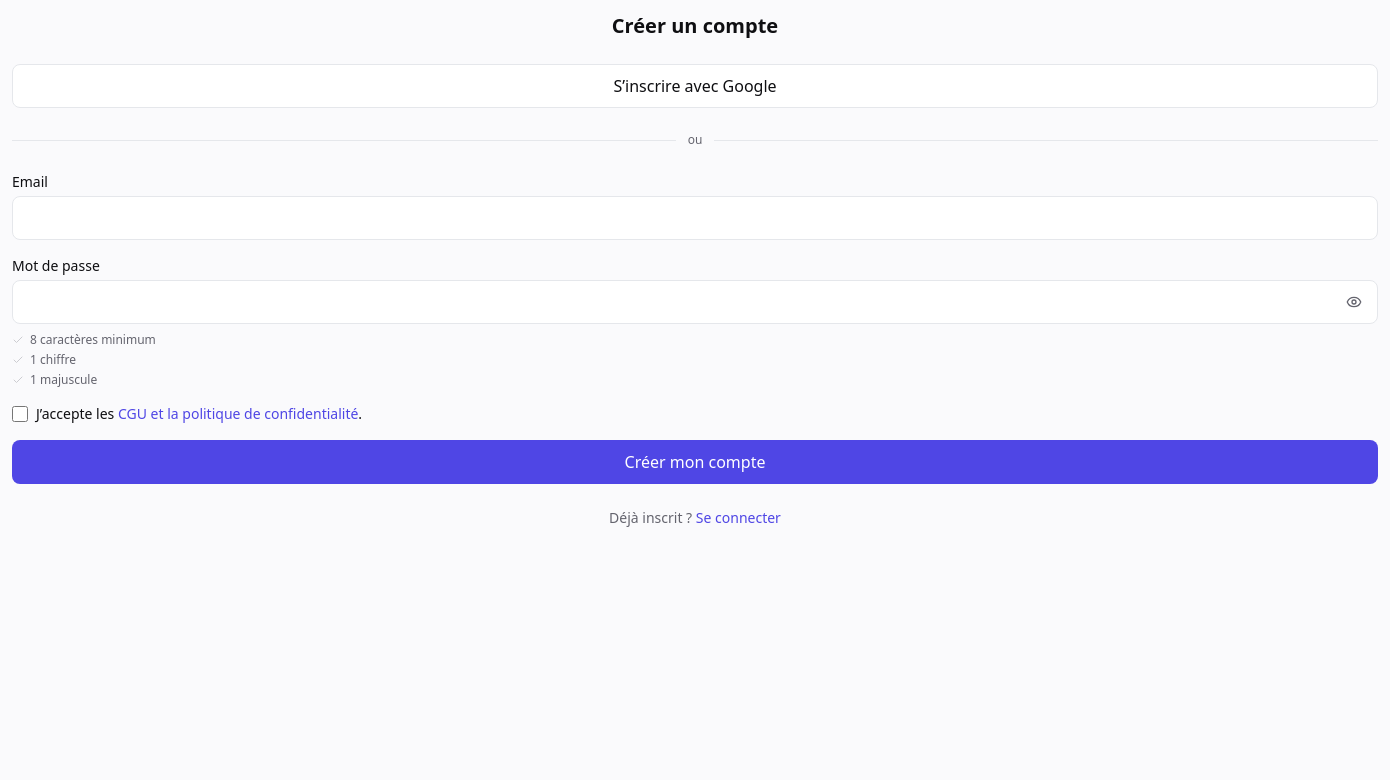
SignupPage › requires CGU acceptance
In the field labelled "Email": x=695, y=218 [12, 196, 1378, 240], type "foo@x.com"
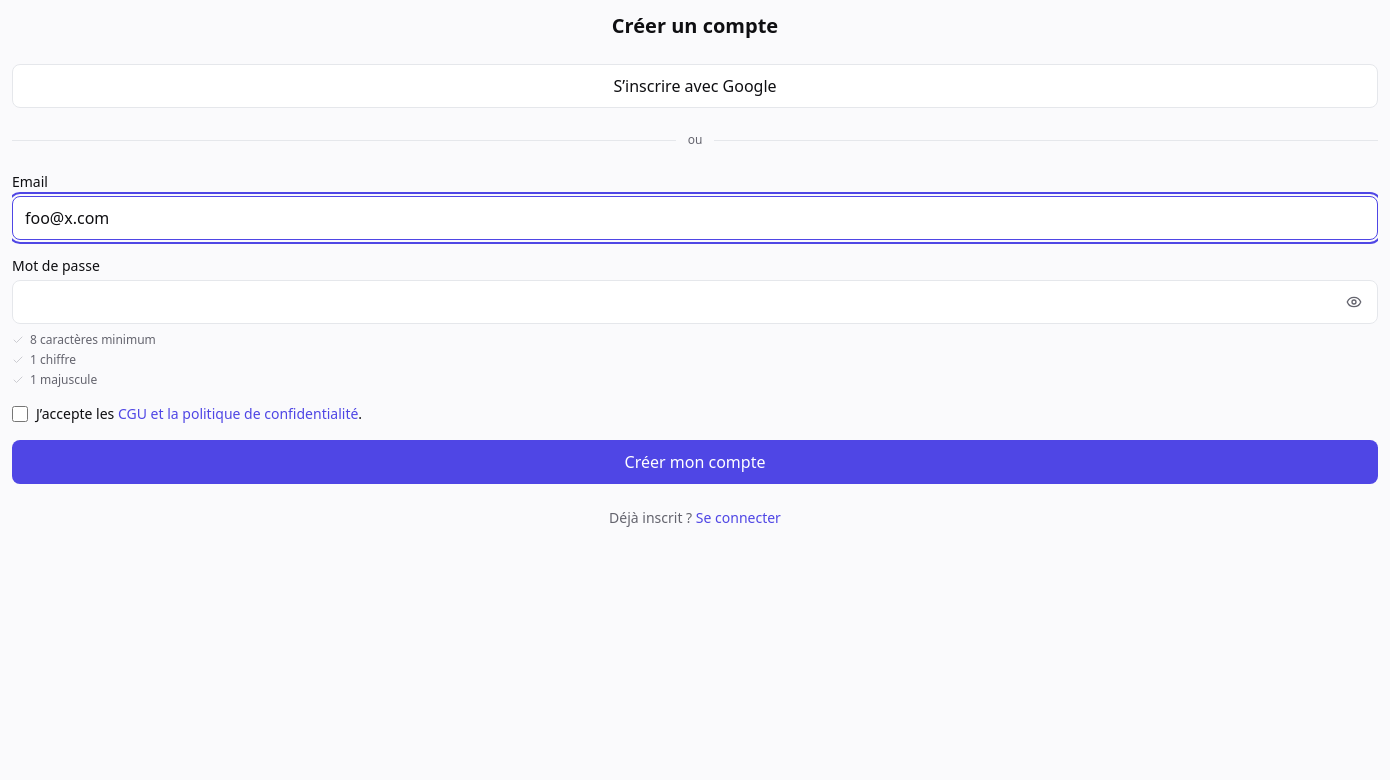
In the password field labelled "Mot de passe": x=695, y=302 [12, 280, 1378, 324], type "Strong123"
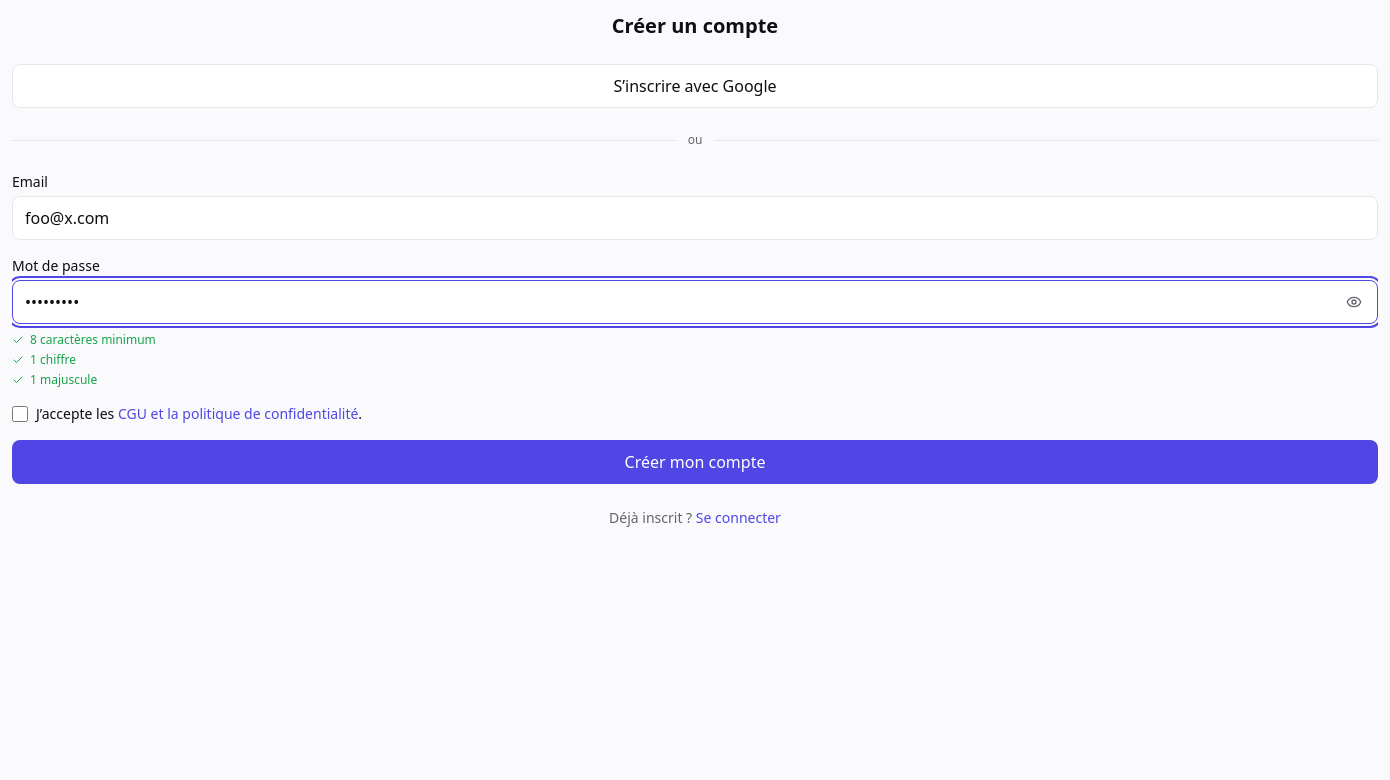
Click the button "Créer mon compte": x=695, y=462 [12, 440, 1378, 484]
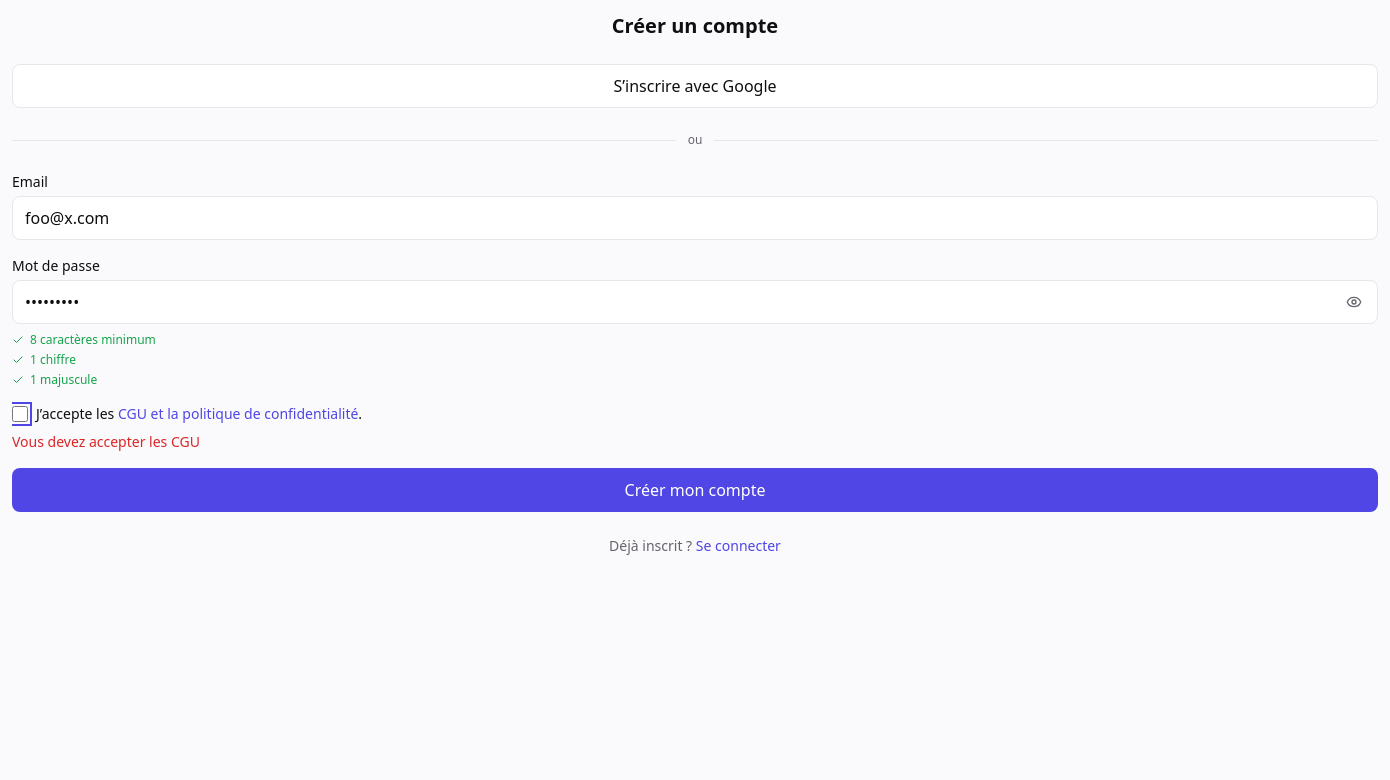
Check: the text "Vous devez accepter les CGU" is shown, box [12, 432, 200, 451]
